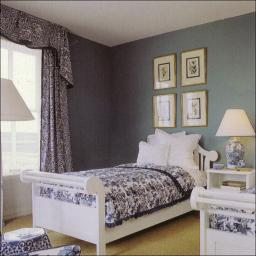Cama: (30, 149, 194, 226)
Ventana: (2, 43, 45, 173)
